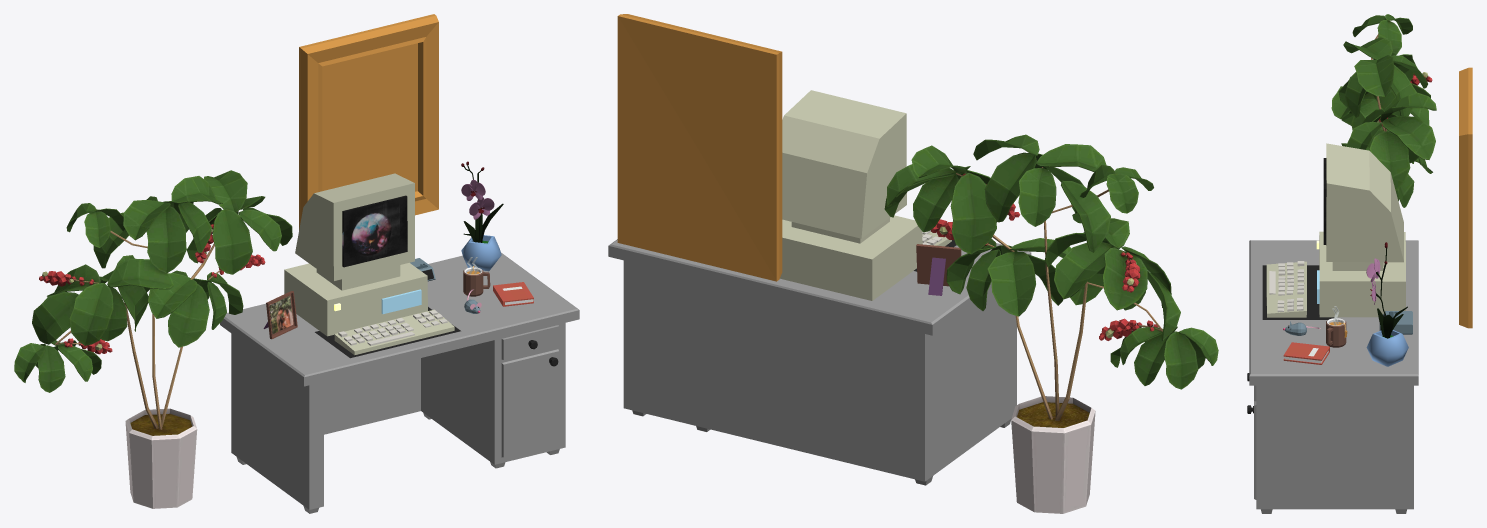
Rendered from DeskScene2.1.glb.
The picture shows the model from 3 angles, left to right: view 1: azimuth 30°, elevation 25°; view 2: azimuth 150°, elevation 25°; view 3: azimuth 270°, elevation 25°; orthographic projection. The views are drawn at different scales.
Parts seen in each view (by area): view 1: Desk_01_Cube.037, CoffePlant_mehs, Wall_Art_Classical_Plane, Group 2, model, Box003, Group, GeoSphere001, Cube.007_Cube.006, Desk_01_Cube.037 2, model 2, Cube 2; view 2: Desk_01_Cube.037, CoffePlant_mehs, Wall_Art_Classical_Plane, Group 2, Hollow Cube; view 3: Desk_01_Cube.037, Group 2, CoffePlant_mehs, Wall_Art_Classical_Plane, Desk_01_Cube.037 2, GeoSphere001, Box003, Group, Cube.007_Cube.006, model 2, model, Digital_clock_Cube (+1 smaller).
Boxes of the visible parts, bbox=[...] form: Desk_01_Cube.037: bbox=[220, 252, 579, 513]; CoffePlant_mehs: bbox=[14, 170, 292, 508]; Wall_Art_Classical_Plane: bbox=[299, 14, 438, 230]; Group 2: bbox=[284, 173, 454, 355]; model: bbox=[334, 195, 421, 314]; Box003: bbox=[461, 161, 503, 242]; Group: bbox=[338, 317, 414, 345]; GeoSphere001: bbox=[461, 235, 501, 271]; Cube.007_Cube.006: bbox=[493, 282, 533, 306]; Desk_01_Cube.037 2: bbox=[315, 307, 558, 366]; model 2: bbox=[463, 257, 490, 296]; Cube 2: bbox=[269, 295, 293, 334]; Desk_01_Cube.037: bbox=[608, 230, 1031, 485]; CoffePlant_mehs: bbox=[884, 134, 1218, 513]; Wall_Art_Classical_Plane: bbox=[617, 14, 782, 281]; Group 2: bbox=[780, 90, 951, 300]; Hollow Cube: bbox=[916, 244, 961, 286]; Desk_01_Cube.037: bbox=[1249, 240, 1418, 513]; Group 2: bbox=[1266, 143, 1405, 317]; CoffePlant_mehs: bbox=[1331, 14, 1436, 207]; Wall_Art_Classical_Plane: bbox=[1459, 67, 1472, 328]; Desk_01_Cube.037 2: bbox=[1247, 265, 1334, 413]; GeoSphere001: bbox=[1366, 330, 1408, 366]; Box003: bbox=[1366, 242, 1407, 338]; Group: bbox=[1269, 261, 1304, 295]; Cube.007_Cube.006: bbox=[1283, 342, 1329, 364]; model 2: bbox=[1326, 306, 1347, 347]; model: bbox=[1316, 158, 1326, 303]; Digital_clock_Cube: bbox=[1379, 311, 1412, 333].
Size of what is drawn, in the model's own units: 1.79 by 1.27 by 0.698.
31 materials, 4 textured.
